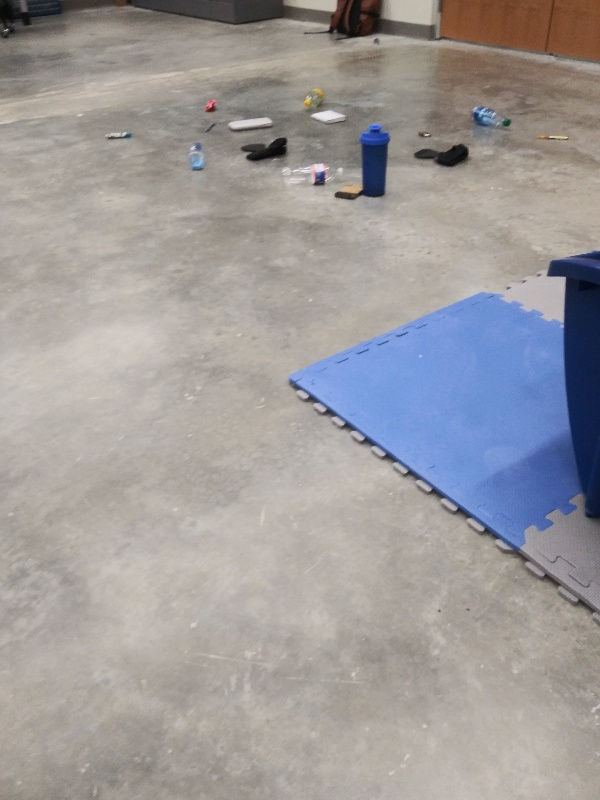bottle: (281, 162, 347, 184), (469, 103, 512, 130), (300, 86, 327, 109), (187, 140, 206, 171)
